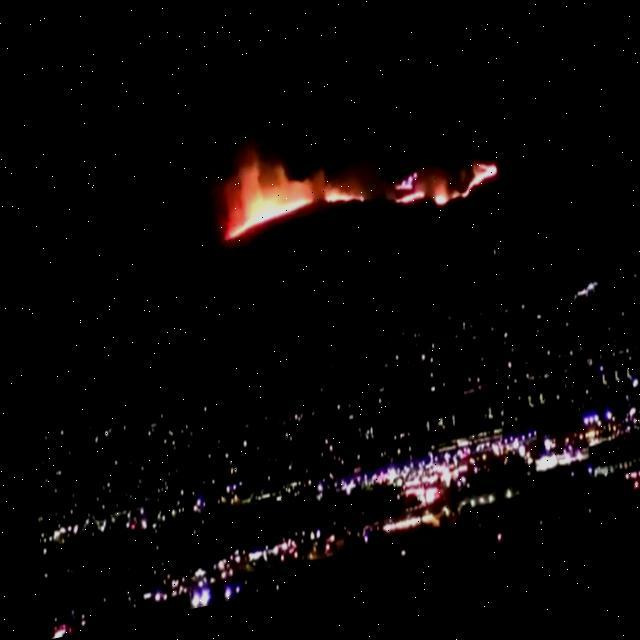Fire: (217, 153, 310, 249), (430, 171, 496, 226), (322, 191, 361, 223), (392, 186, 422, 224)
